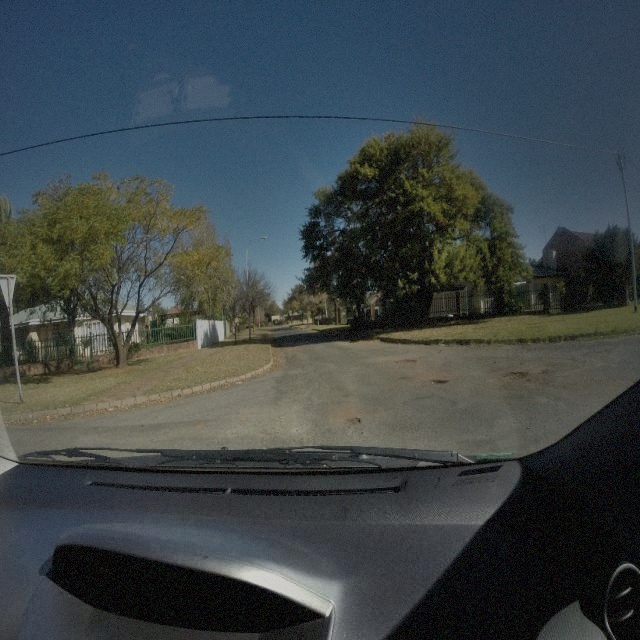pothole: (502, 368, 527, 382), (346, 414, 362, 429), (394, 357, 418, 365), (429, 376, 450, 385)
